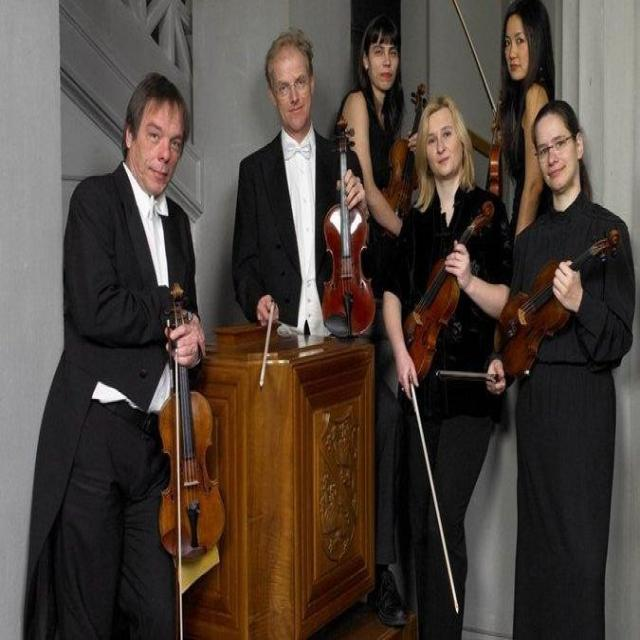violin: (155, 282, 230, 562), (498, 226, 621, 377), (403, 199, 495, 381), (319, 116, 377, 339), (382, 80, 430, 218), (486, 86, 504, 201)
